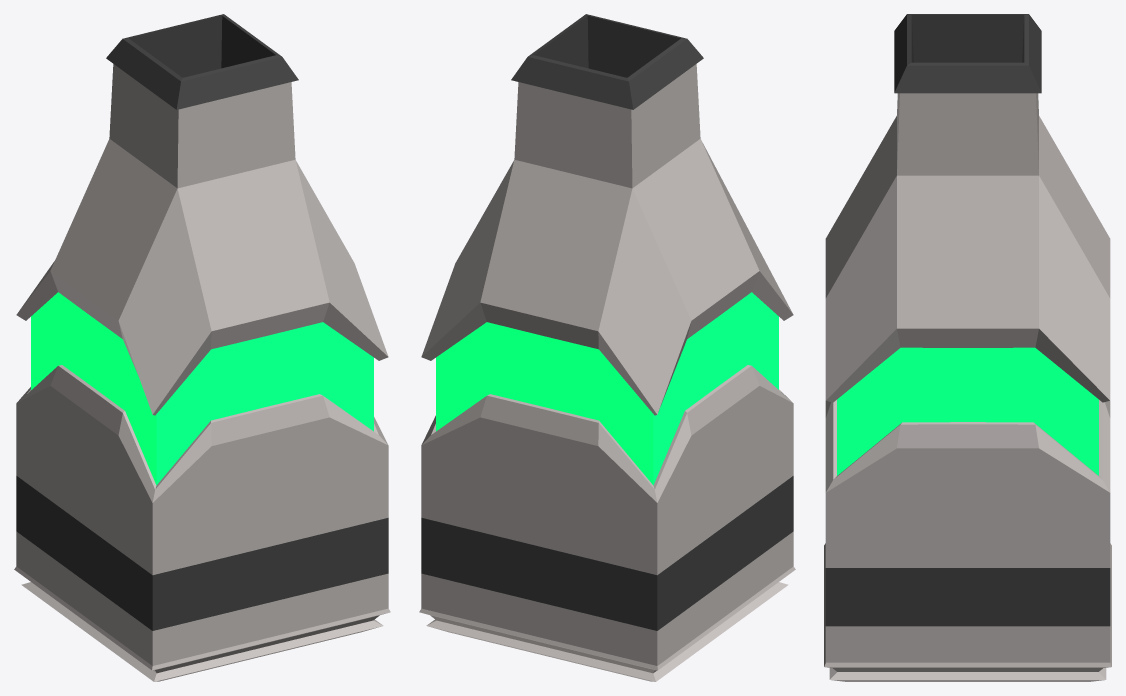
File: ScienceFlaskFull.fbx
The picture shows the model from 3 angles, left to right: view 1: azimuth 30°, elevation 25°; view 2: azimuth 150°, elevation 25°; view 3: azimuth 270°, elevation 25°; orthographic projection. The views are drawn at different scales.
Visible parts, largest first — view 1: Cube, Cube.004; view 2: Cube, Cube.004; view 3: Cube, Cube.004.
Boxes of the visible parts, bbox=[...] form: Cube: bbox=[14, 14, 390, 681]; Cube.004: bbox=[31, 292, 373, 485]; Cube: bbox=[419, 14, 795, 681]; Cube.004: bbox=[436, 292, 778, 485]; Cube: bbox=[824, 14, 1111, 681]; Cube.004: bbox=[837, 347, 1098, 475].
Bounding box in the file's own units: 202 × 464 × 202.
